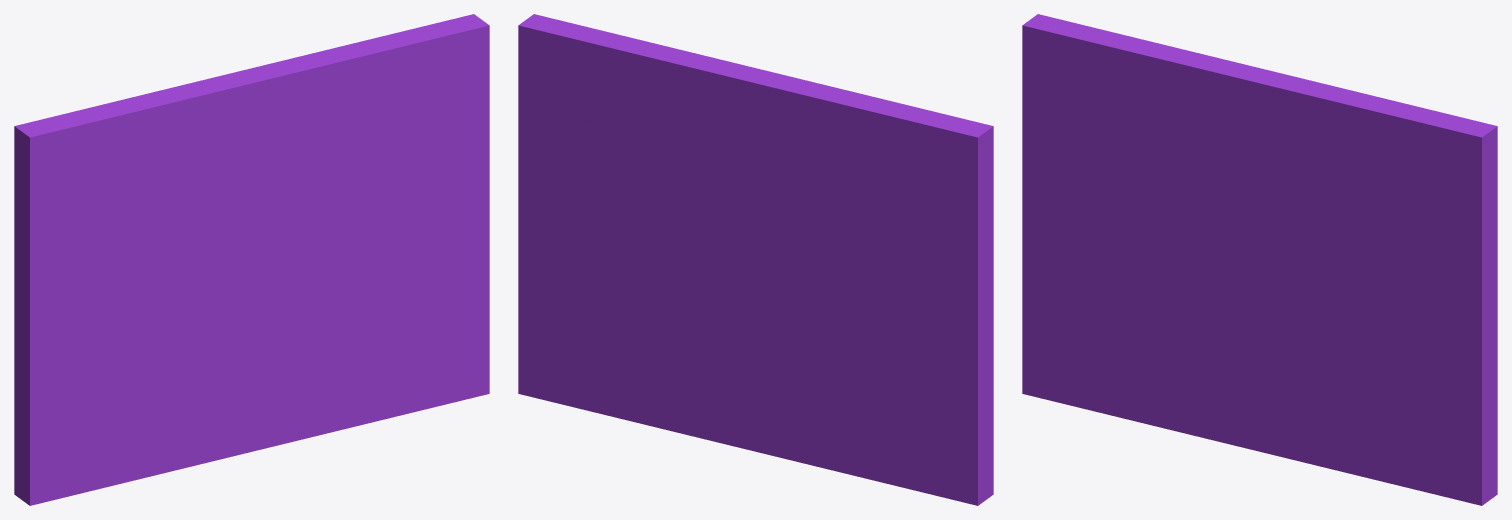
File: Barrier_199_chunks.fbx
The picture shows the model from 3 angles, left to right: view 1: azimuth 30°, elevation 25°; view 2: azimuth 150°, elevation 25°; view 3: azimuth 330°, elevation 25°; orthographic projection.
Parts seen in each view (by area): view 1: Barrier_199_1, Barrier_199_2, Barrier_199_3, Barrier_199_6, Barrier_199_4, Barrier_199_5, Barrier_199_0; view 2: Barrier_199_1, Barrier_199_0, Barrier_199_2, Barrier_199_3, Barrier_199_6, Barrier_199_4; view 3: Barrier_199_2, Barrier_199_1, Barrier_199_3, Barrier_199_6, Barrier_199_4, Barrier_199_5, Barrier_199_0.
Boxes of the visible parts, <box> form: Barrier_199_1: <box>14,180,269,505</box>; Barrier_199_2: <box>254,34,489,425</box>; Barrier_199_3: <box>14,73,261,236</box>; Barrier_199_6: <box>232,14,489,152</box>; Barrier_199_4: <box>188,183,324,259</box>; Barrier_199_5: <box>238,127,365,191</box>; Barrier_199_0: <box>266,349,357,448</box>; Barrier_199_1: <box>760,172,993,505</box>; Barrier_199_0: <box>518,231,765,453</box>; Barrier_199_2: <box>518,57,699,386</box>; Barrier_199_3: <box>749,71,993,240</box>; Barrier_199_6: <box>518,14,769,169</box>; Barrier_199_4: <box>636,149,834,265</box>; Barrier_199_2: <box>1246,146,1497,505</box>; Barrier_199_1: <box>1022,71,1261,451</box>; Barrier_199_3: <box>1022,14,1254,201</box>; Barrier_199_6: <box>1246,67,1497,204</box>; Barrier_199_4: <box>1180,173,1316,256</box>; Barrier_199_5: <box>1230,128,1357,223</box>; Barrier_199_0: <box>1258,354,1497,494</box>.
Bounding box in the file's own units: 376 × 288 × 22.1.
